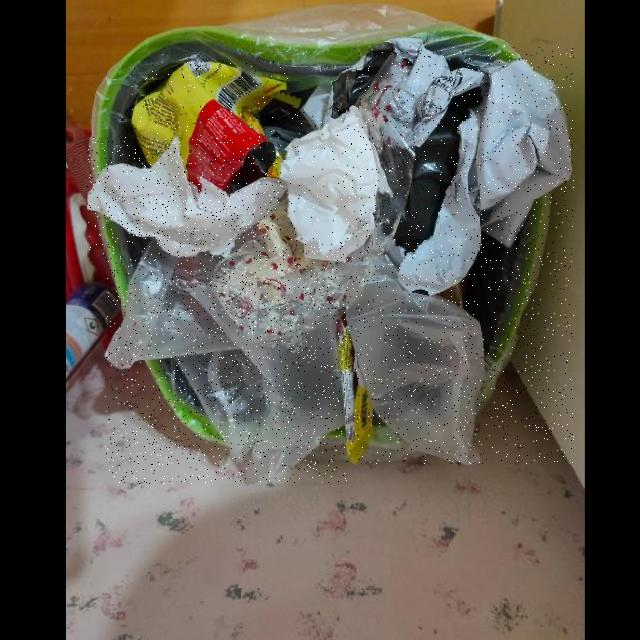paper: (88, 137, 288, 257), (281, 106, 394, 262)
plastic: (347, 46, 574, 464), (105, 238, 347, 483)
wrapper: (131, 61, 288, 196), (337, 313, 376, 464)
